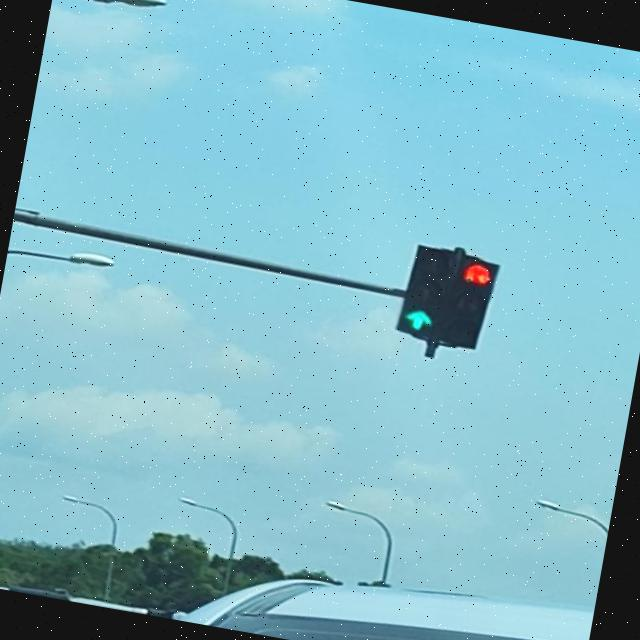green_light: (393, 241, 462, 343)
red_light: (439, 250, 502, 354)
